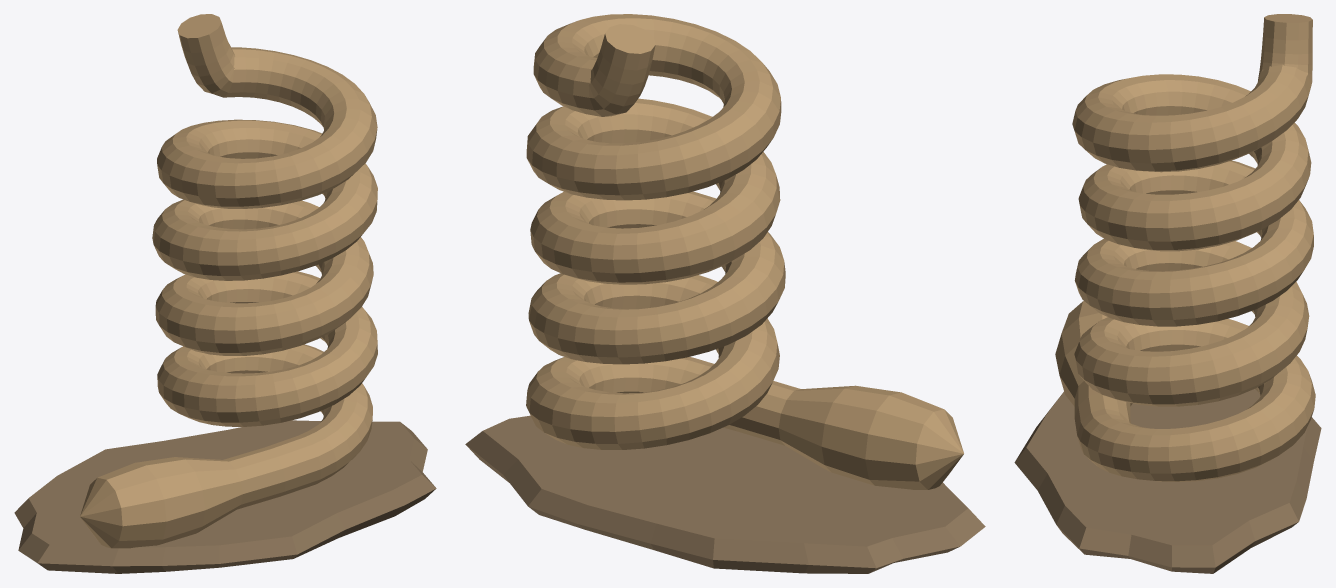
The picture shows the model from 3 angles, left to right: view 1: azimuth 30°, elevation 25°; view 2: azimuth 150°, elevation 25°; view 3: azimuth 270°, elevation 25°; orthographic projection. The views are drawn at different scales.
Parts seen in each view (by area): view 1: one_closed_chamber_tunnel_helix_and_neck, irregular_low_sediment_footing; view 2: one_closed_chamber_tunnel_helix_and_neck, irregular_low_sediment_footing; view 3: one_closed_chamber_tunnel_helix_and_neck, irregular_low_sediment_footing.
Boxes of the visible parts, left/top/right/bottom form: one_closed_chamber_tunnel_helix_and_neck: left=80, top=14, right=377, bottom=548; irregular_low_sediment_footing: left=14, top=420, right=436, bottom=573; one_closed_chamber_tunnel_helix_and_neck: left=526, top=14, right=963, bottom=489; irregular_low_sediment_footing: left=465, top=415, right=985, bottom=573; one_closed_chamber_tunnel_helix_and_neck: left=1055, top=14, right=1315, bottom=481; irregular_low_sediment_footing: left=1014, top=389, right=1321, bottom=573.
Size of the model in its own units: 1.86 by 1.88 by 1.11.
